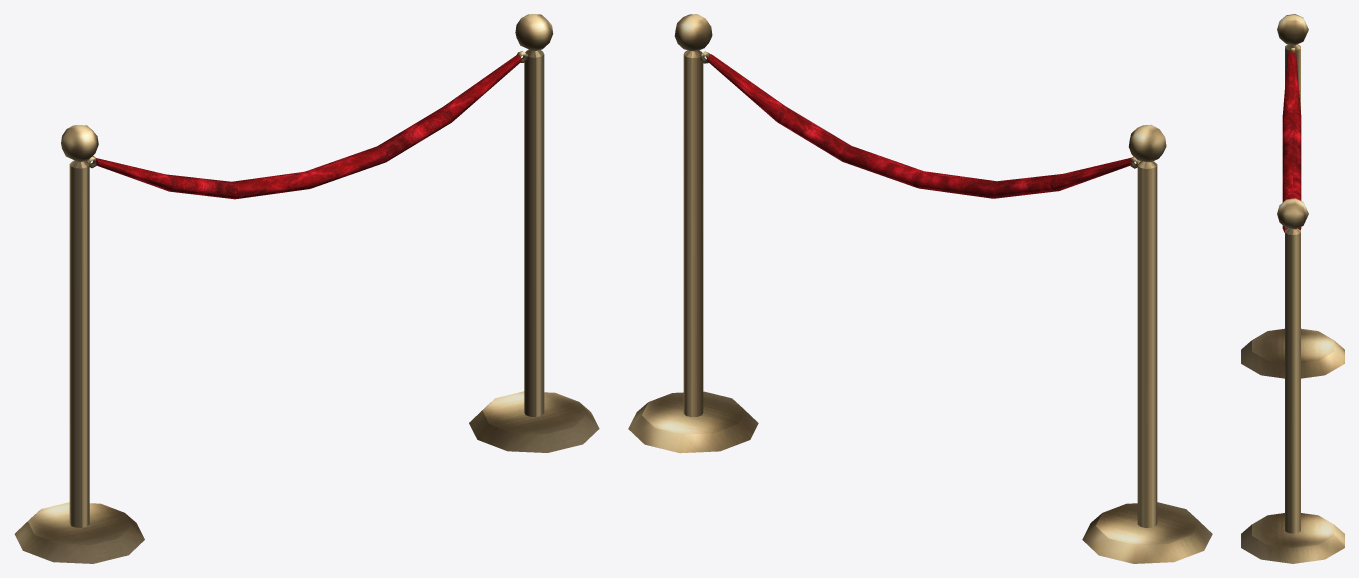
File: 35 fence.fbx
3 renders of one model, left to right at view 1: azimuth 30°, elevation 25°; view 2: azimuth 150°, elevation 25°; view 3: azimuth 270°, elevation 25°, orthographic. The views are drawn at different scales.
Parts seen in each view (by area): view 1: Cylinder001, Cylinder003, Cylinder008, Cylinder004, Cylinder002, Sphere002, Sphere001; view 2: Cylinder001, Cylinder003, Cylinder008, Cylinder002, Cylinder004, Sphere002, Sphere001; view 3: Cylinder003, Cylinder004, Cylinder002, Cylinder008, Sphere001, Sphere002, Cylinder001.
Boxes of the visible parts, x1,y1,x2,y2 form: Cylinder001: (69, 160, 89, 527); Cylinder003: (524, 49, 544, 416); Cylinder008: (96, 54, 521, 199); Cylinder004: (469, 391, 599, 452); Cylinder002: (14, 502, 144, 563); Sphere002: (515, 14, 553, 51); Sphere001: (61, 125, 98, 162); Cylinder001: (1137, 161, 1157, 527); Cylinder003: (683, 50, 703, 417); Cylinder008: (707, 54, 1134, 198); Cylinder002: (1082, 502, 1212, 563); Cylinder004: (628, 391, 758, 453); Sphere002: (674, 14, 712, 51); Sphere001: (1128, 124, 1166, 162); Cylinder003: (1285, 228, 1300, 533); Cylinder004: (1241, 513, 1344, 563); Cylinder002: (1241, 328, 1344, 378); Cylinder008: (1282, 51, 1301, 232); Sphere001: (1277, 14, 1308, 45); Sphere002: (1277, 198, 1308, 229); Cylinder001: (1285, 44, 1300, 109).
Size of the model in its own units: 377 by 261 by 71.87.
Materials: 2 (2 with a texture image).
